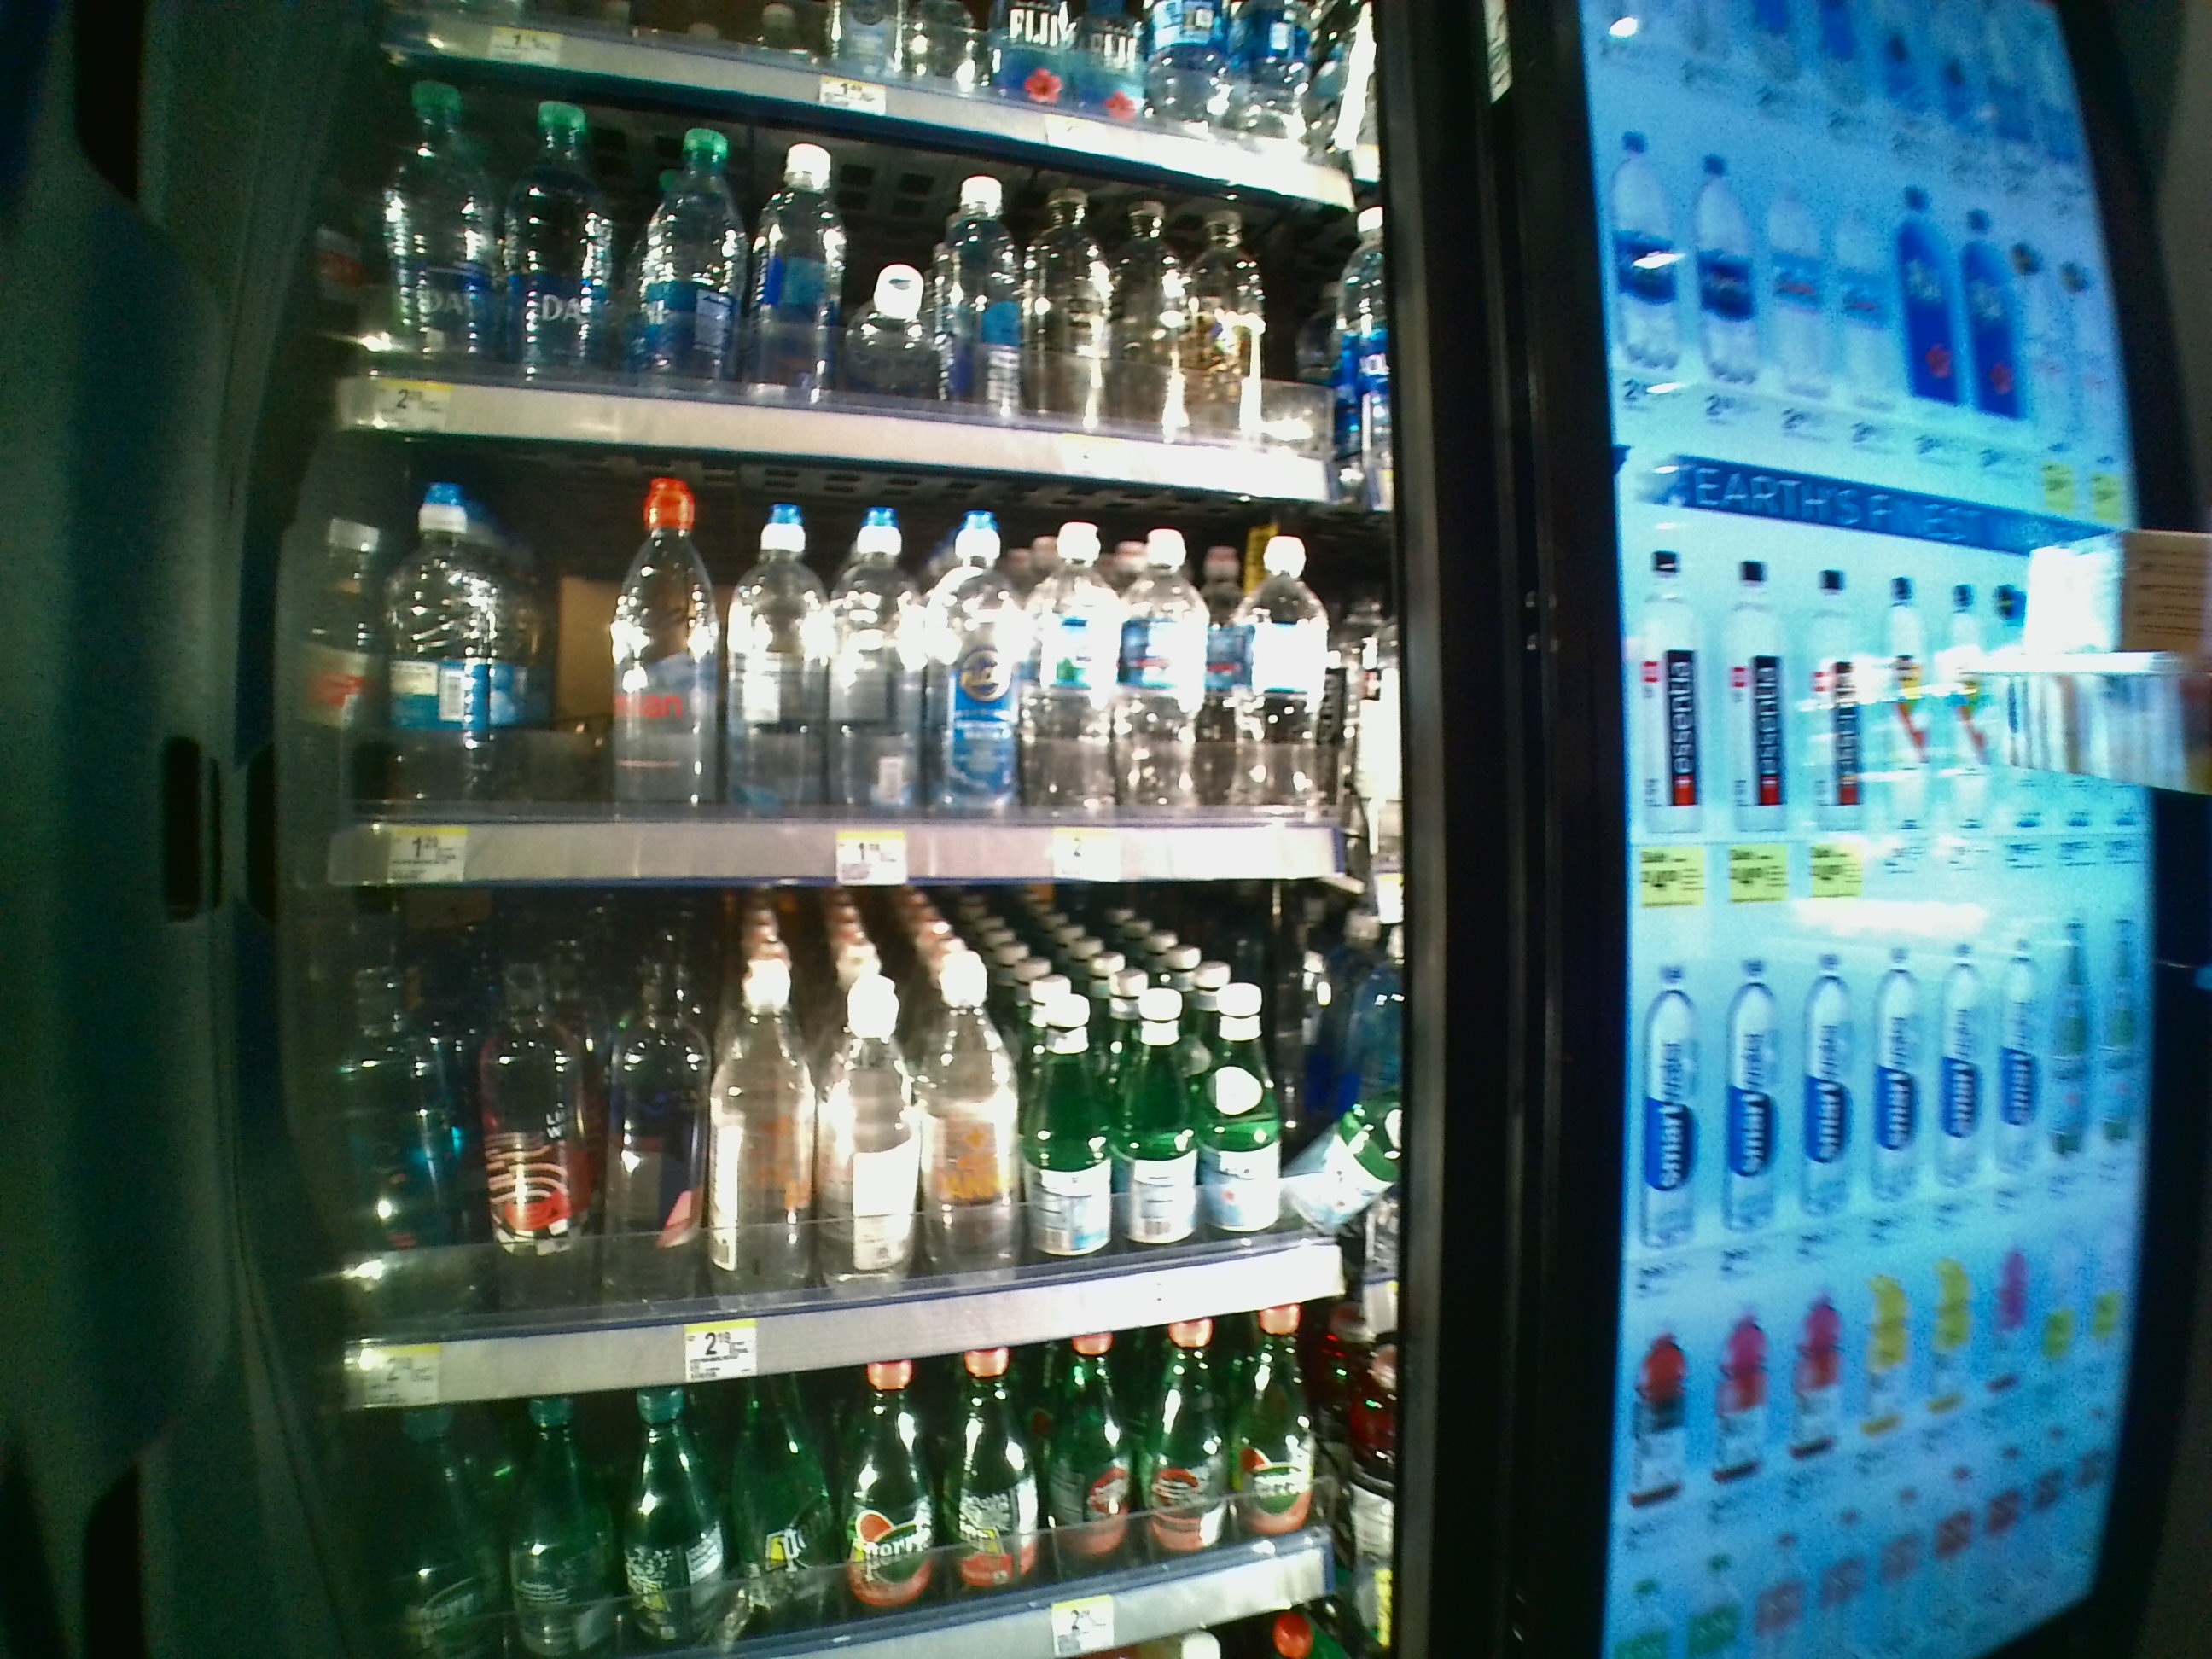Shelf: (298, 894, 1404, 1412), (301, 432, 1404, 892)
